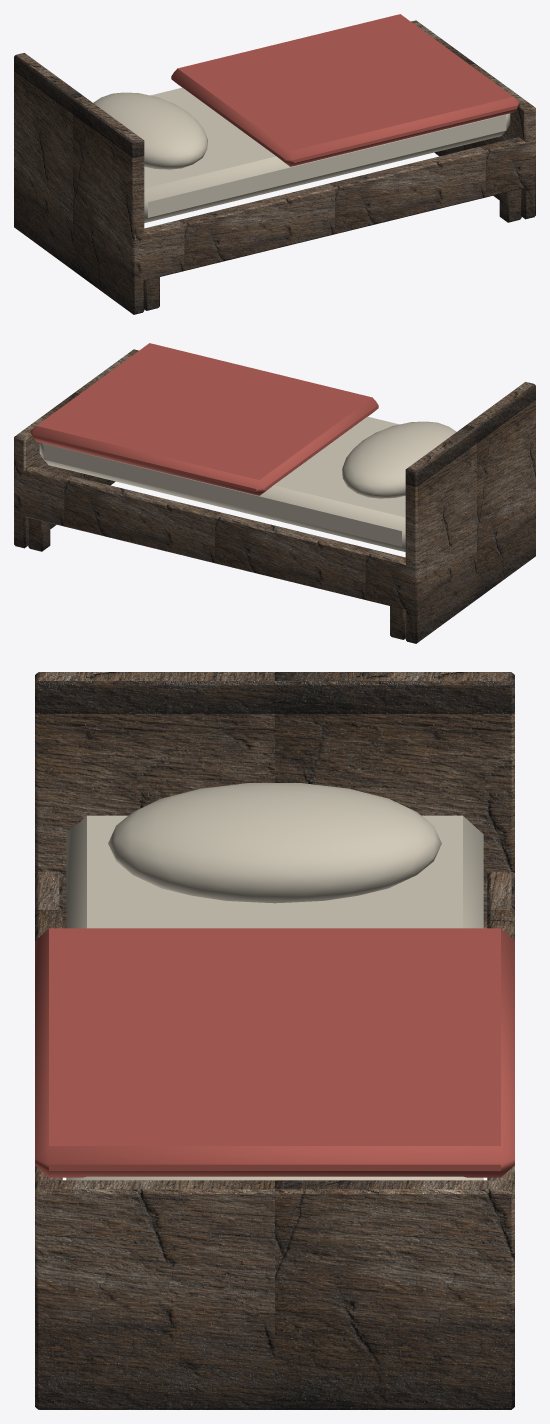
Rendered from simple-bed-v02.glb.
3 views of the same model, one above another, from view 1: azimuth 30°, elevation 25°; view 2: azimuth 150°, elevation 25°; view 3: azimuth 270°, elevation 25° (orthographic). The views are drawn at different scales.
Parts seen in each view (by area): view 1: simple-bed; view 2: simple-bed; view 3: simple-bed.
Part boxes in pixels (<box>): simple-bed: <box>14,14,535,314</box>; simple-bed: <box>14,343,535,643</box>; simple-bed: <box>35,672,514,1409</box>.
Bounding box in the file's own units: 2.68 × 1.1 × 1.38.
Materials: 3 (1 with a texture image).
